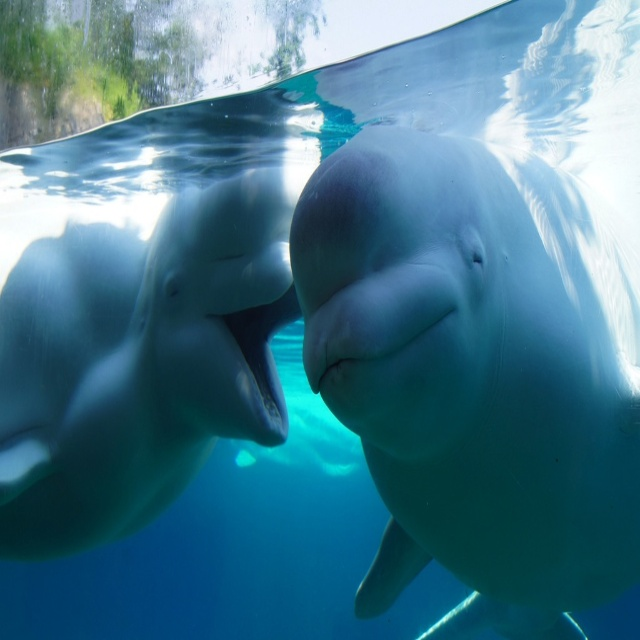Whale: (289, 124, 640, 640), (0, 167, 304, 562)
